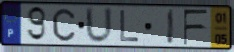9: (25, 5, 47, 43)
C: (51, 7, 77, 43)
F: (182, 8, 210, 47)
I: (166, 8, 176, 47)
L: (119, 9, 141, 43)
U: (84, 5, 115, 46)
